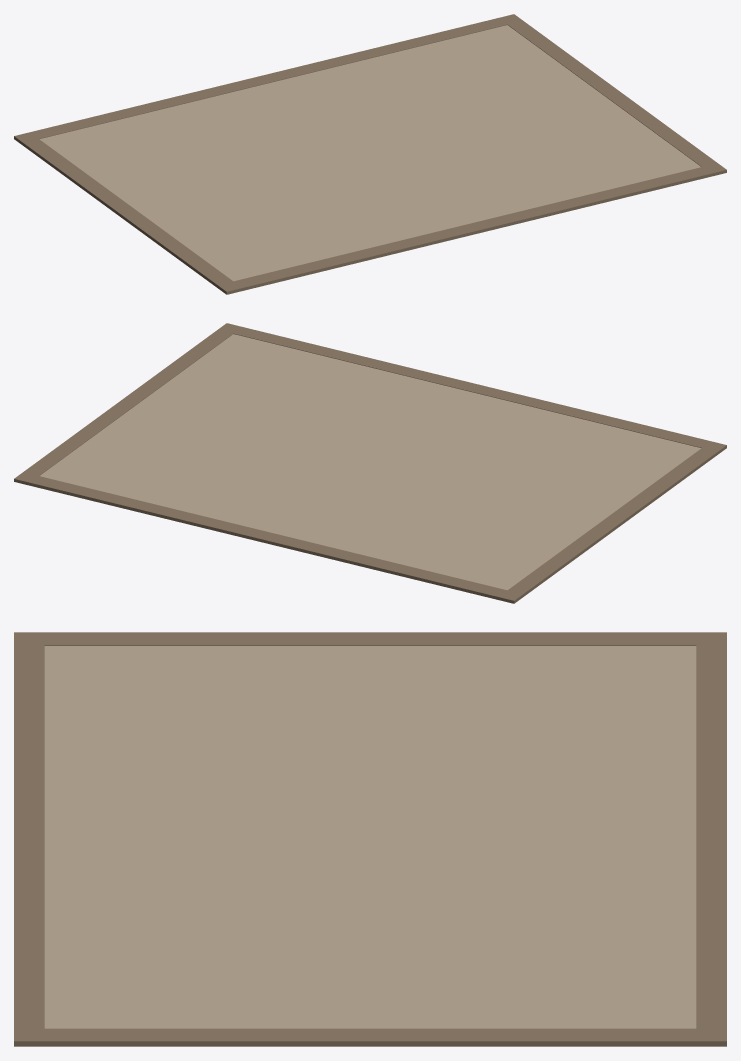
The model's file is rug-lite.glb.
3 views of the same model, one above another, from view 1: azimuth 30°, elevation 25°; view 2: azimuth 150°, elevation 25°; view 3: azimuth 270°, elevation 25° (orthographic). The views are drawn at different scales.
Parts seen in each view (by area): view 1: material-0-fabric, material-1-trim; view 2: material-0-fabric, material-1-trim; view 3: material-0-fabric, material-1-trim.
Boxes of the visible parts, <box> form: material-0-fabric: <box>39,25,700,281</box>; material-1-trim: <box>14,14,726,294</box>; material-0-fabric: <box>40,334,701,590</box>; material-1-trim: <box>14,323,726,603</box>; material-0-fabric: <box>44,646,696,1028</box>; material-1-trim: <box>14,632,726,1046</box>.
Size of the model in its own units: 1.9 by 0.013 by 1.4.
